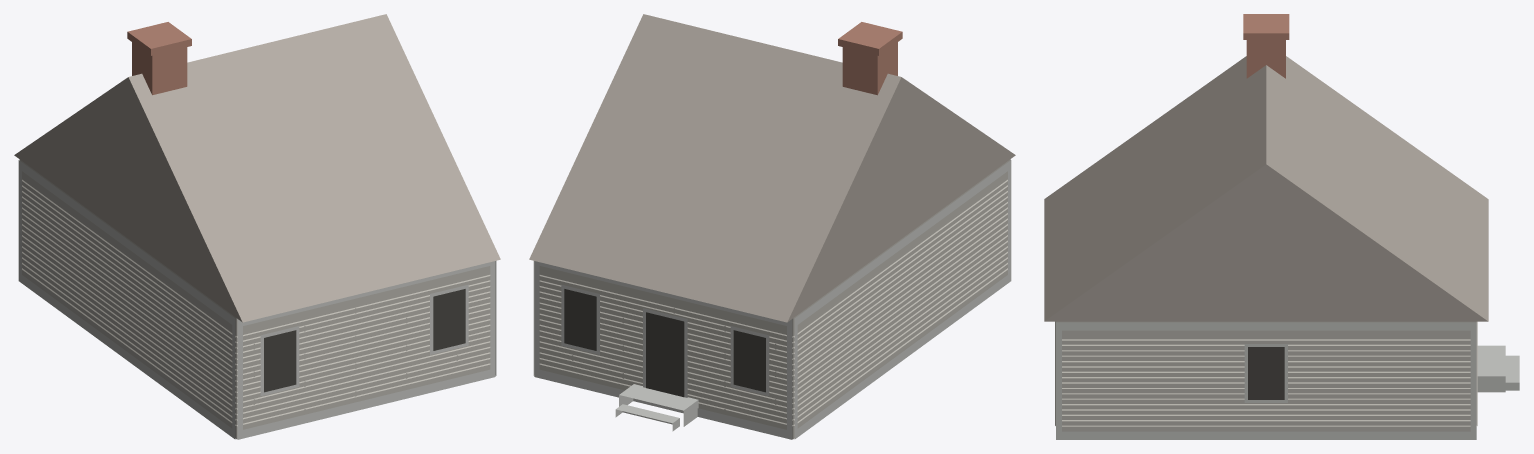
Rendered from recon_1835_south_d5_011__inferred_1835.glb.
The picture shows the model from 3 angles, left to right: view 1: azimuth 30°, elevation 25°; view 2: azimuth 150°, elevation 25°; view 3: azimuth 270°, elevation 25°; orthographic projection. The views are drawn at different scales.
Visible parts, largest first — view 1: recon_1835_south_d5_011__inferred_1835; view 2: recon_1835_south_d5_011__inferred_1835; view 3: recon_1835_south_d5_011__inferred_1835.
Part boxes in pixels (bbox=[...]): recon_1835_south_d5_011__inferred_1835: bbox=[14, 14, 500, 439]; recon_1835_south_d5_011__inferred_1835: bbox=[529, 14, 1015, 439]; recon_1835_south_d5_011__inferred_1835: bbox=[1044, 14, 1519, 439].
Size of the model in its own units: 6.28 by 7.27 by 10.18.
